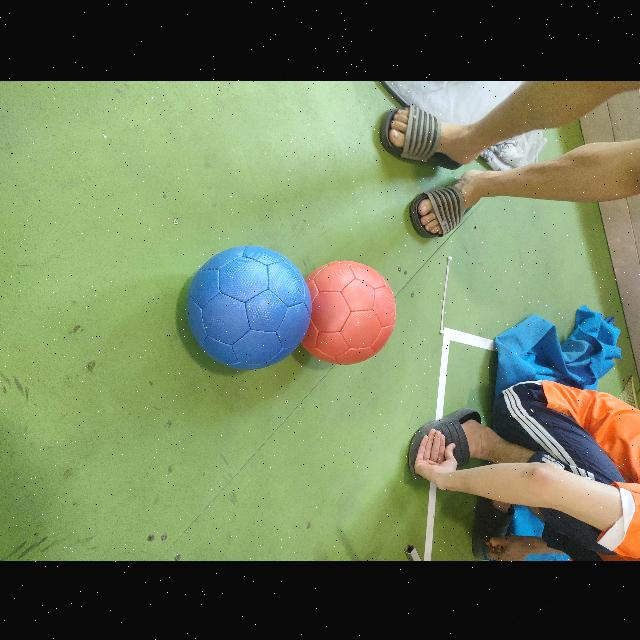B: (187, 244, 311, 369)
R: (302, 260, 395, 364)
